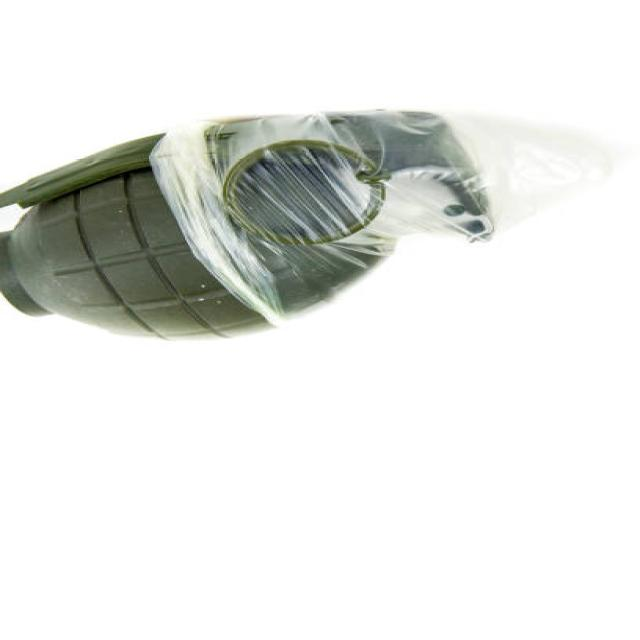grenade: (1, 99, 512, 344)
